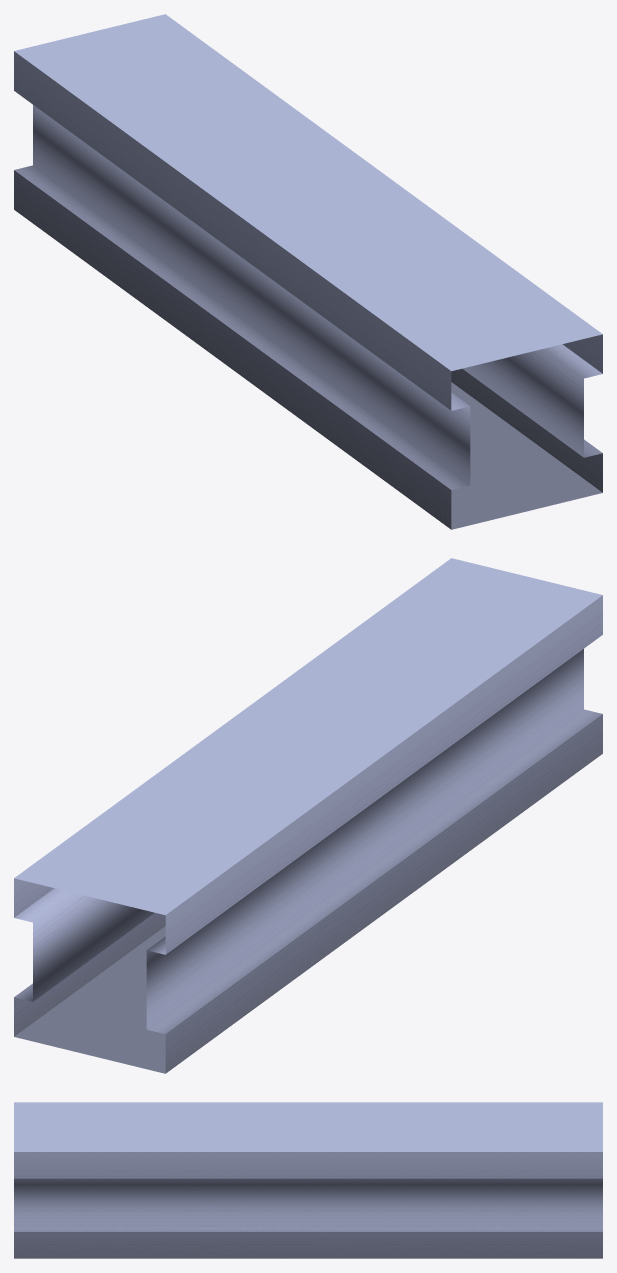
File: coaster_monorail_track.glb
The picture shows the model from 3 angles, top to bottom: view 1: azimuth 30°, elevation 25°; view 2: azimuth 150°, elevation 25°; view 3: azimuth 270°, elevation 25°; orthographic projection. The views are drawn at different scales.
Parts seen in each view (by area): view 1: coaster-monorail-track; view 2: coaster-monorail-track; view 3: coaster-monorail-track.
Part boxes in pixels (bbox=[...]): coaster-monorail-track: bbox=[14, 14, 602, 529]; coaster-monorail-track: bbox=[14, 558, 602, 1073]; coaster-monorail-track: bbox=[14, 1102, 602, 1258].
Size of the model in its own units: 0.2 by 0.2 by 1.
1 material, 1 textured.
